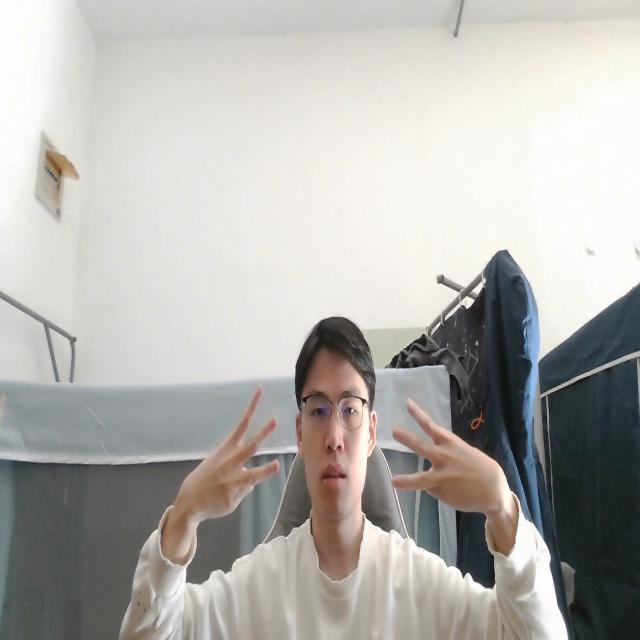three: (174, 382, 286, 527), (385, 398, 510, 520)
